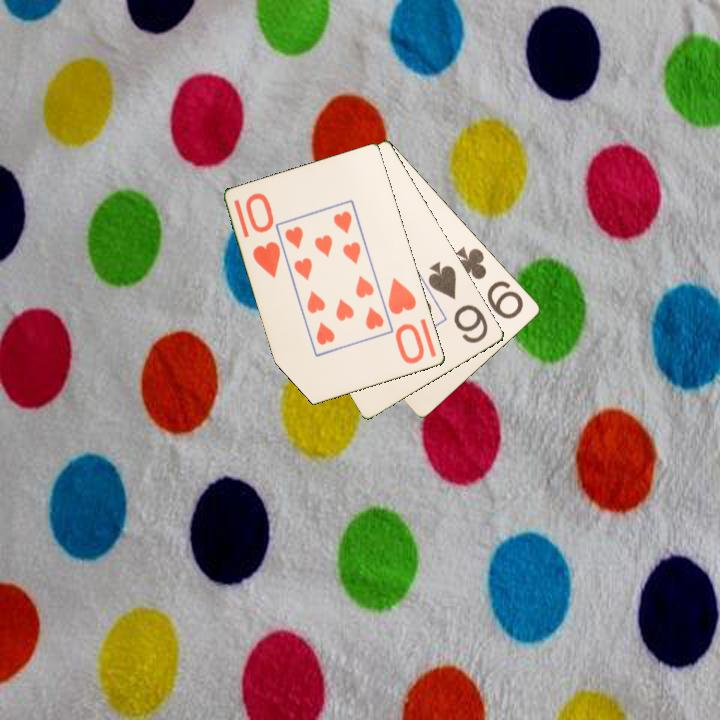10h: (385, 274, 428, 367), (242, 189, 284, 281)
6s: (425, 258, 491, 346)
9c: (452, 243, 527, 322)
